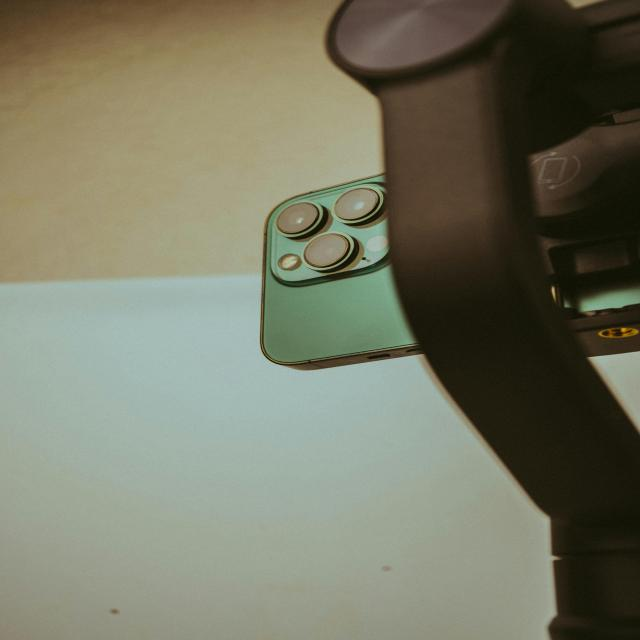Mobile: (237, 159, 640, 383)
